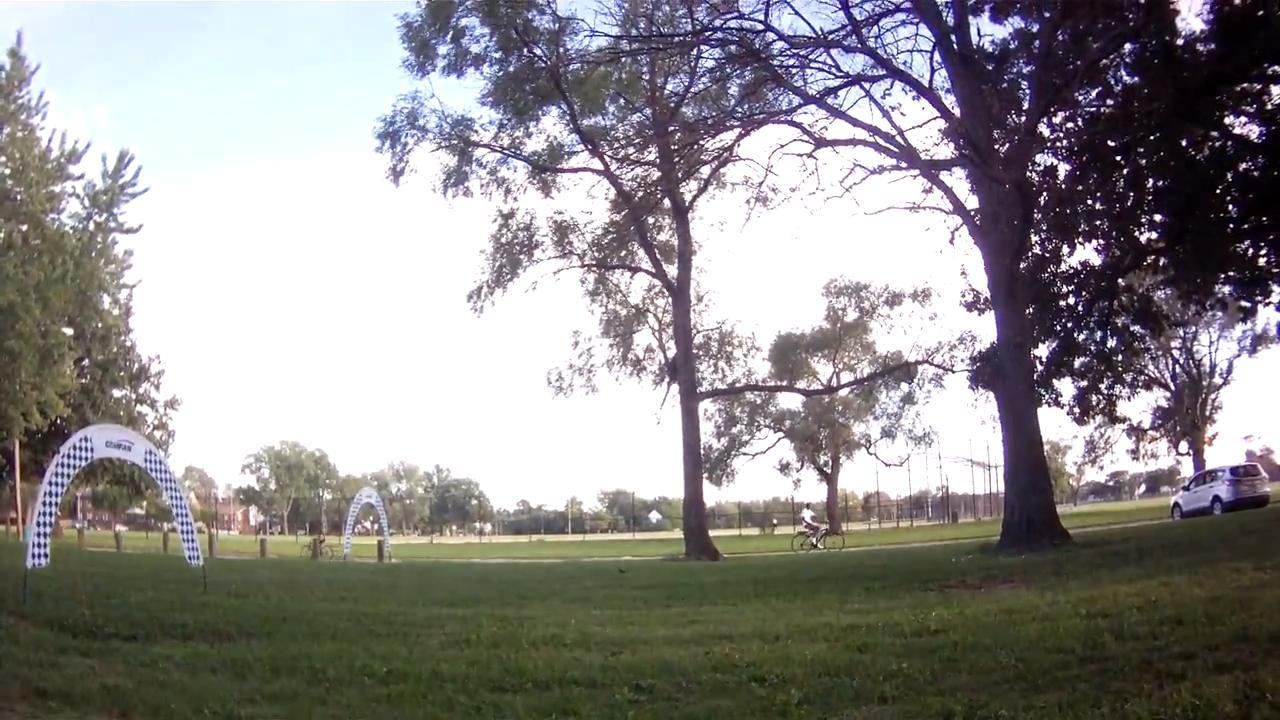gate: (28, 418, 205, 573)
